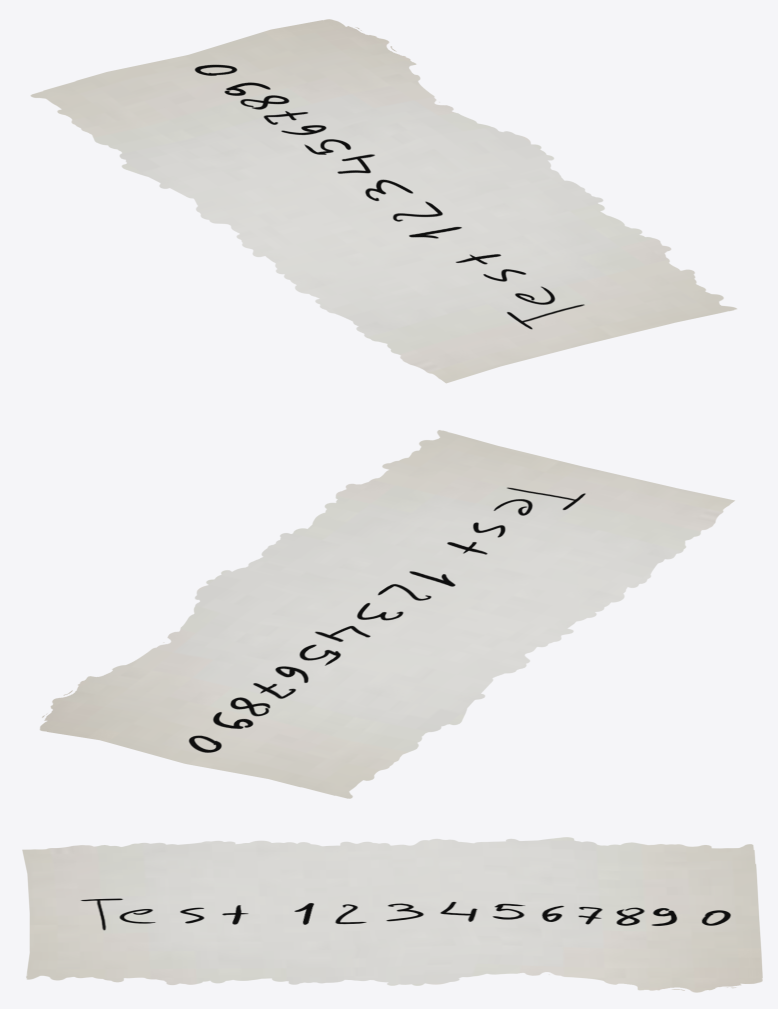
Rendered from paper.glb.
3 views of the same model, one above another, from view 1: azimuth 30°, elevation 25°; view 2: azimuth 150°, elevation 25°; view 3: azimuth 270°, elevation 25° (orthographic). The views are drawn at different scales.
Bounding box in the file's own units: 13.15 × 0.4218 × 27.36.
1 material, 1 textured.
